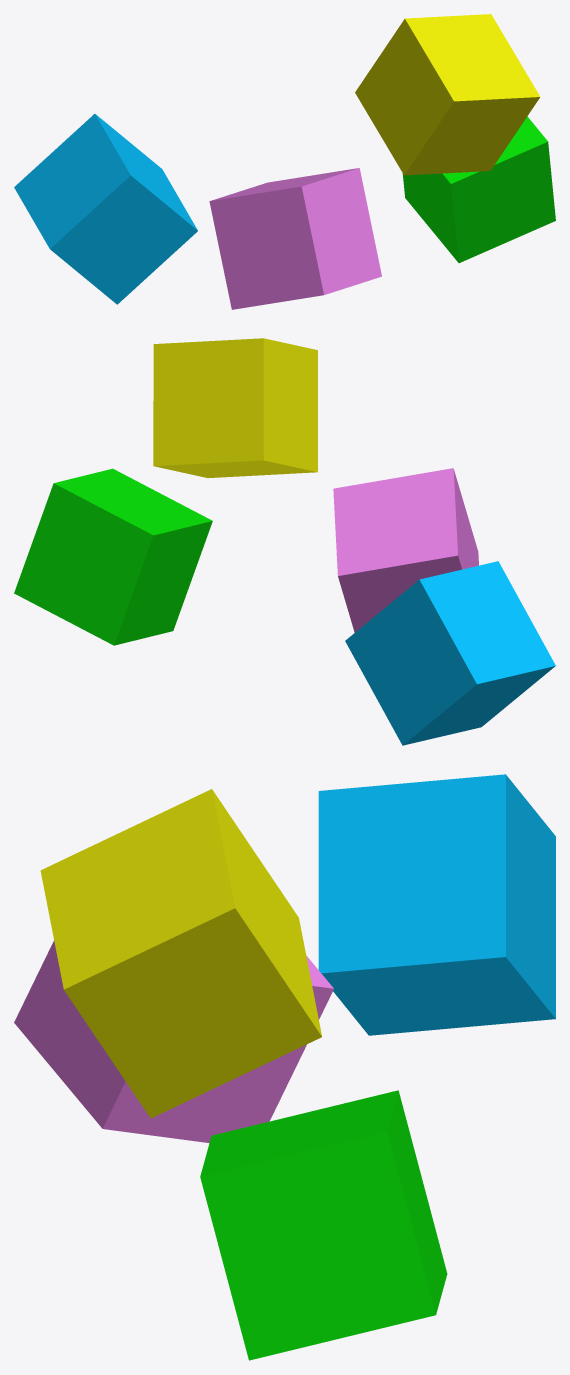
Rendered from SceneBoxes.obj.
The picture shows the model from 3 angles, top to bottom: view 1: azimuth 30°, elevation 25°; view 2: azimuth 150°, elevation 25°; view 3: azimuth 270°, elevation 25°; orthographic projection. The views are drawn at different scales.
Visible parts, largest first — view 1: Mesh1 Model, Mesh2 Model, Mesh4 Model, Mesh3 Model; view 2: Mesh2 Model, Mesh3 Model, Mesh1 Model, Mesh4 Model; view 3: Mesh1 Model, Mesh2 Model, Mesh3 Model, Mesh4 Model.
Boxes of the visible parts, box(x1,y1,x2,y2) form: Mesh1 Model: box(355, 14, 540, 175); Mesh2 Model: box(14, 114, 197, 304); Mesh4 Model: box(209, 168, 381, 309); Mesh3 Model: box(402, 116, 555, 262); Mesh2 Model: box(345, 561, 555, 745); Mesh3 Model: box(14, 468, 212, 645); Mesh1 Model: box(153, 338, 317, 477); Mesh4 Model: box(333, 468, 478, 632); Mesh1 Model: box(40, 789, 321, 1118); Mesh2 Model: box(318, 774, 555, 1035); Mesh3 Model: box(200, 1090, 447, 1360); Mesh4 Model: box(14, 940, 333, 1142).
Bounding box in the file's own units: 2.2 × 1.21 × 1.26.
